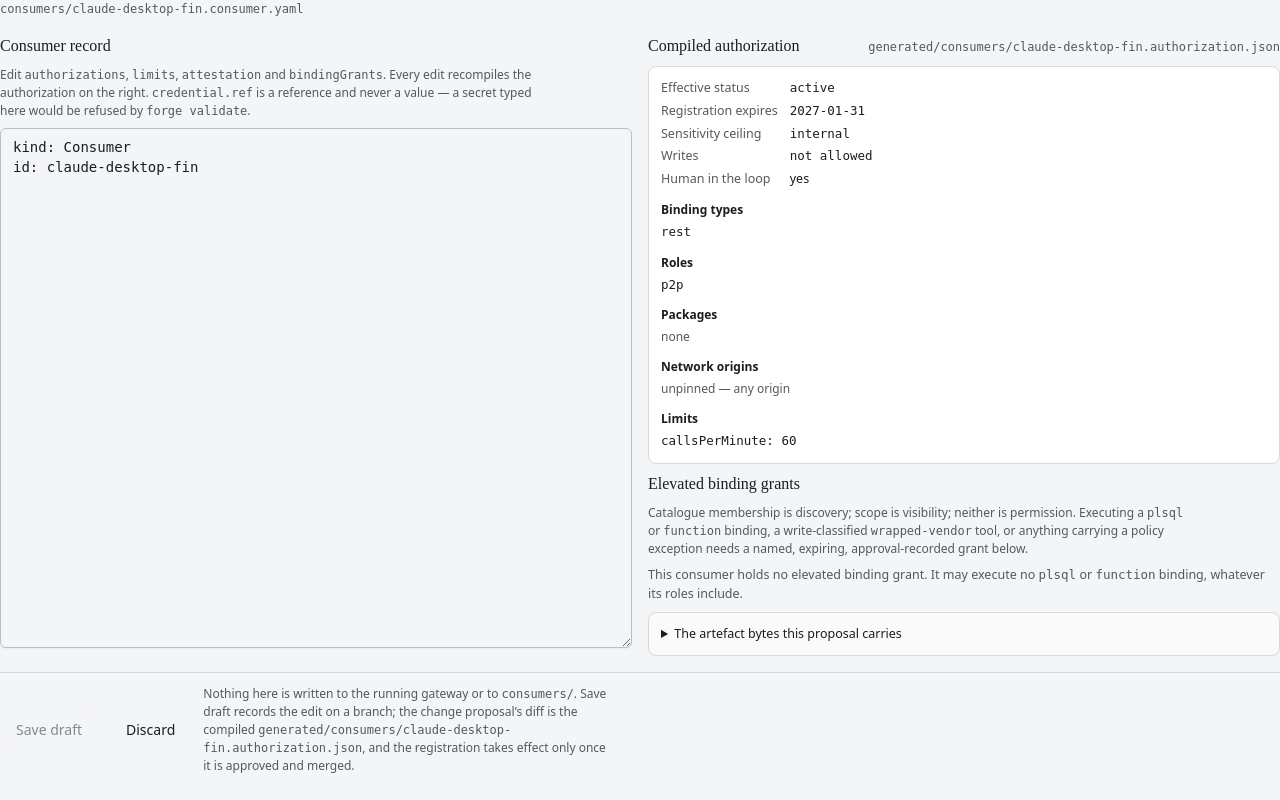
Scenario: ConsumerEditor — nothing saves directly › names the change host failure with an actionable next instead of failing silently
expect the element with test id "compiled-authorization" is shown: met, box [648,66,1279,464]
Replace the text in the text box with test id "consumer-yaml" with "kind: Consumer " at (316, 388), box [0,128,632,648]
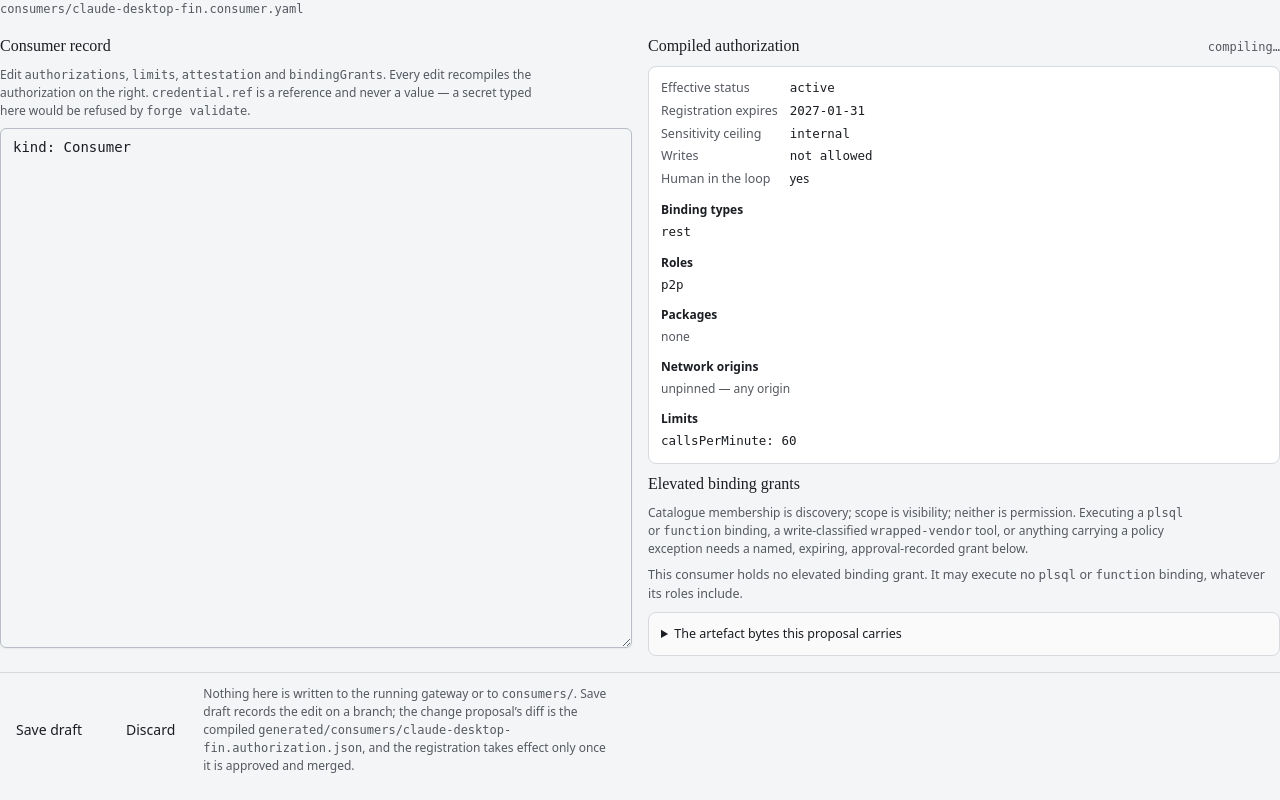
expect the button with test id "save-draft" is enabled: met
Click the button with test id "save-draft" at (49, 730), box [0,712,98,748]
(page scrolled)
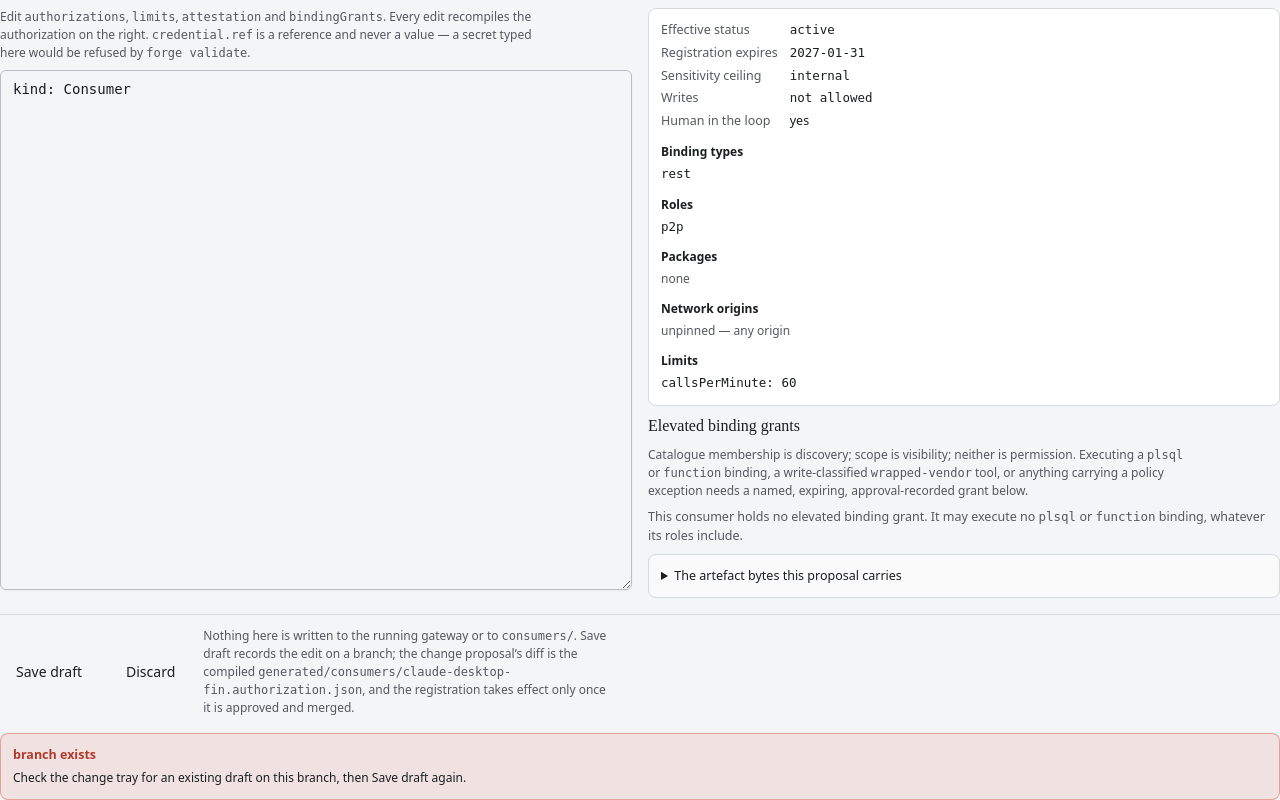
expect the message with test id "save-error" shows "branch exists": met, box [13,746,96,763]
